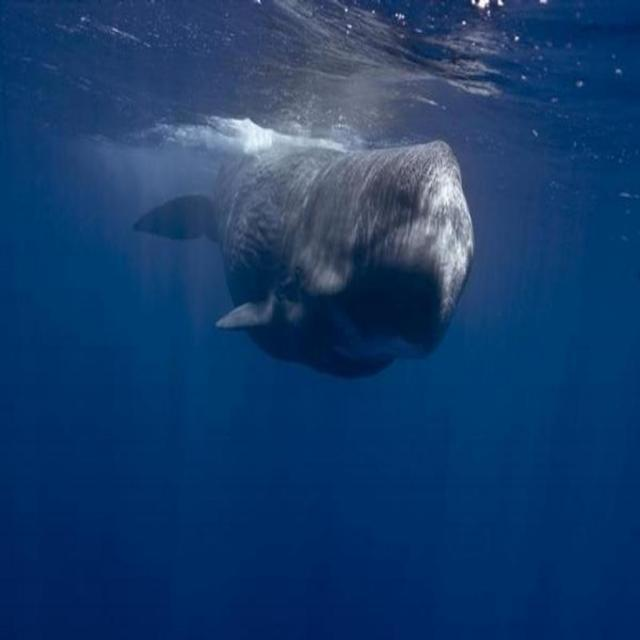Shark: (130, 134, 472, 380)
